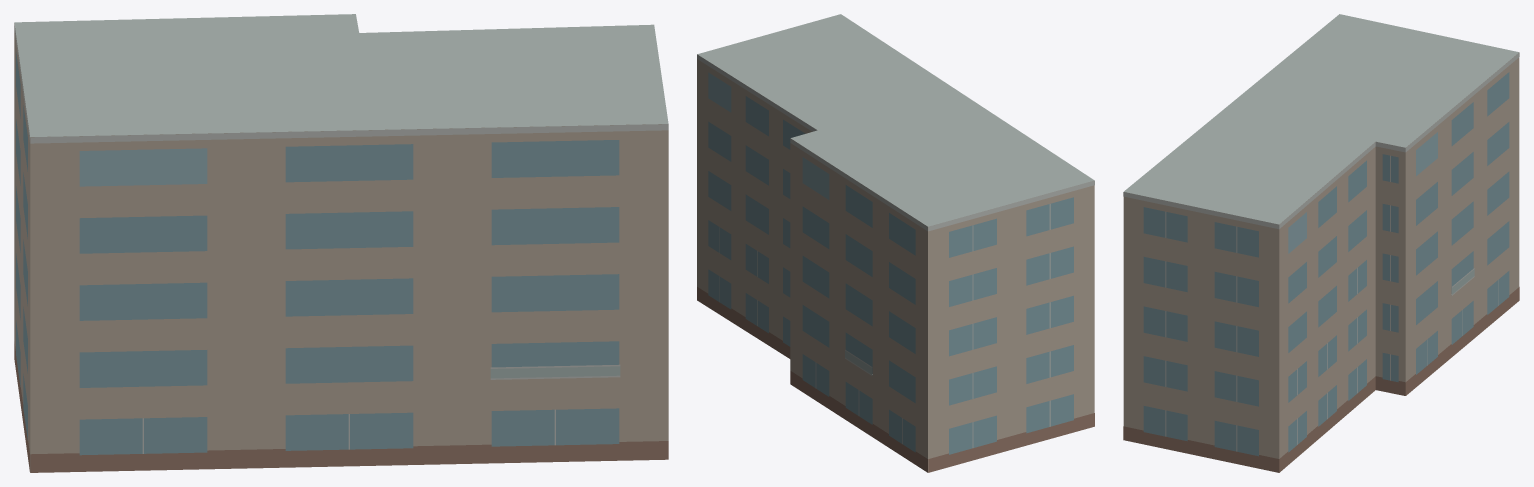
Rendered from survey-upis-32885195.glb.
The picture shows the model from 3 angles, left to right: view 1: azimuth 30°, elevation 25°; view 2: azimuth 150°, elevation 25°; view 3: azimuth 270°, elevation 25°; orthographic projection. The views are drawn at different scales.
Visible parts, largest first — view 1: survey-upis-32885195.tmp; view 2: survey-upis-32885195.tmp; view 3: survey-upis-32885195.tmp.
Boxes of the visible parts, x1,y1,x2,y2 form: survey-upis-32885195.tmp: (14, 14, 668, 472); survey-upis-32885195.tmp: (697, 14, 1094, 472); survey-upis-32885195.tmp: (1123, 14, 1519, 472).
Size of the model in its own units: 23.15 by 12.73 by 18.41.
